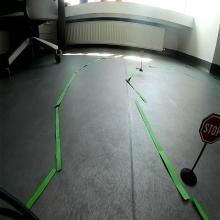stop: (199, 114, 220, 144)
